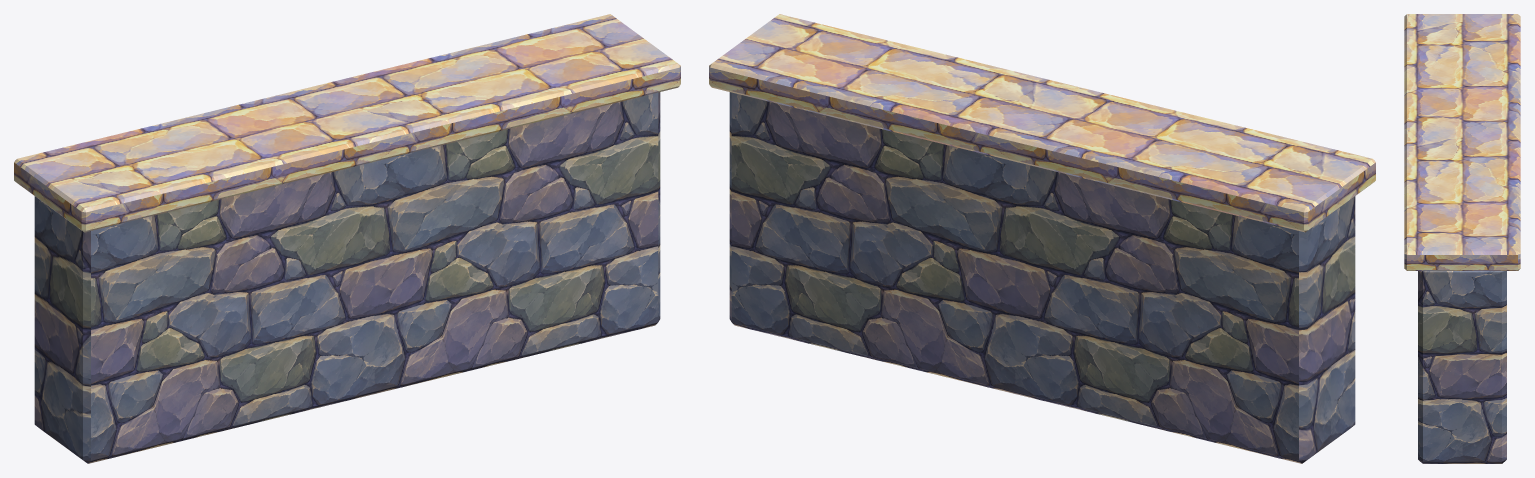
Rendered from Stone_Wall.fbx.
3 renders of one model, left to right at view 1: azimuth 30°, elevation 25°; view 2: azimuth 150°, elevation 25°; view 3: azimuth 270°, elevation 25°, orthographic. The views are drawn at different scales.
Parts seen in each view (by area): view 1: Stone_Wall.001; view 2: Stone_Wall.001; view 3: Stone_Wall.001.
Boxes of the visible parts, box(x1,y1,x2,y2) form: Stone_Wall.001: box(14, 14, 680, 463); Stone_Wall.001: box(709, 14, 1375, 463); Stone_Wall.001: box(1404, 14, 1520, 463).
Bounding box in the file's own units: 415 × 176 × 85.
2 materials, 2 textured.
